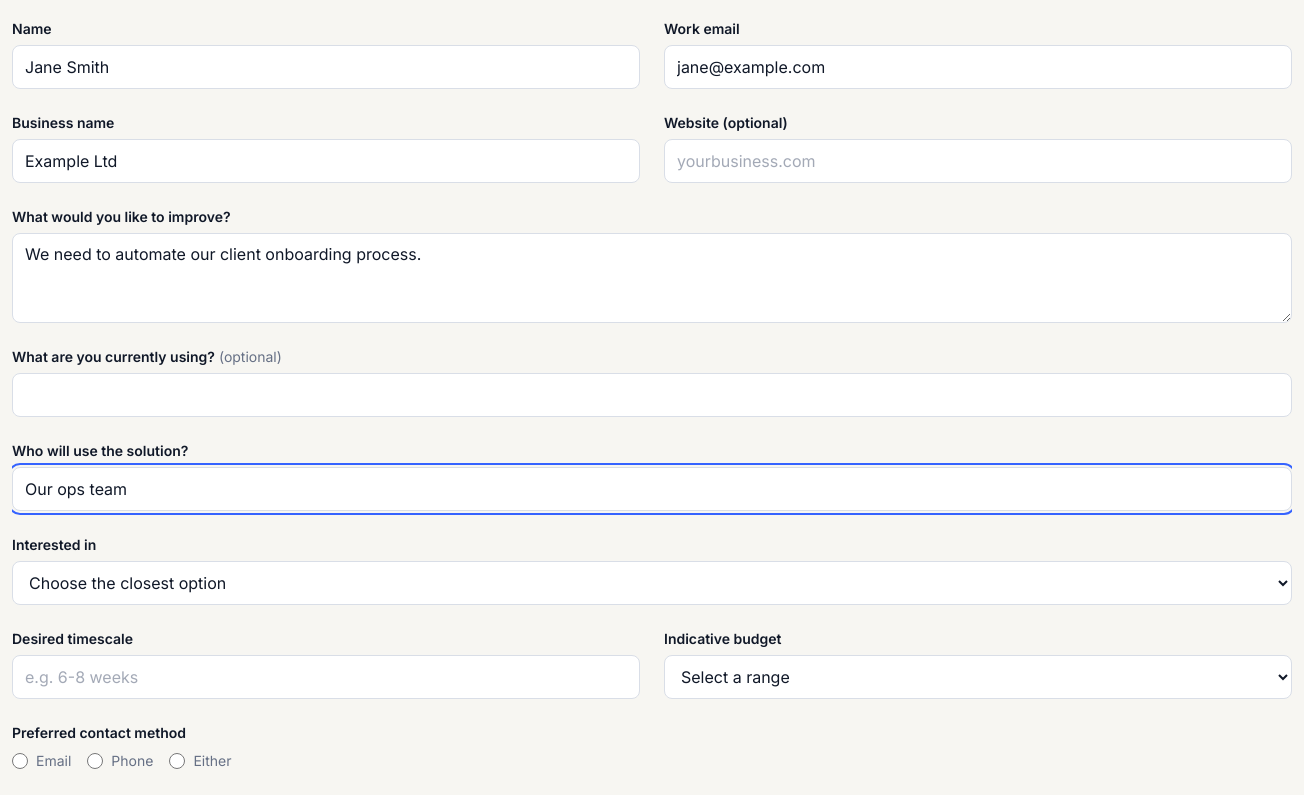
Test case: ContactForm › submits successfully with valid input
The width and height of the screenshot is (1304, 795).
Earlier steps of the test are not shown.
Select "Automation" in the dropdown labelled "Interested in". click: [652, 583]
box: [12, 561, 1292, 605]
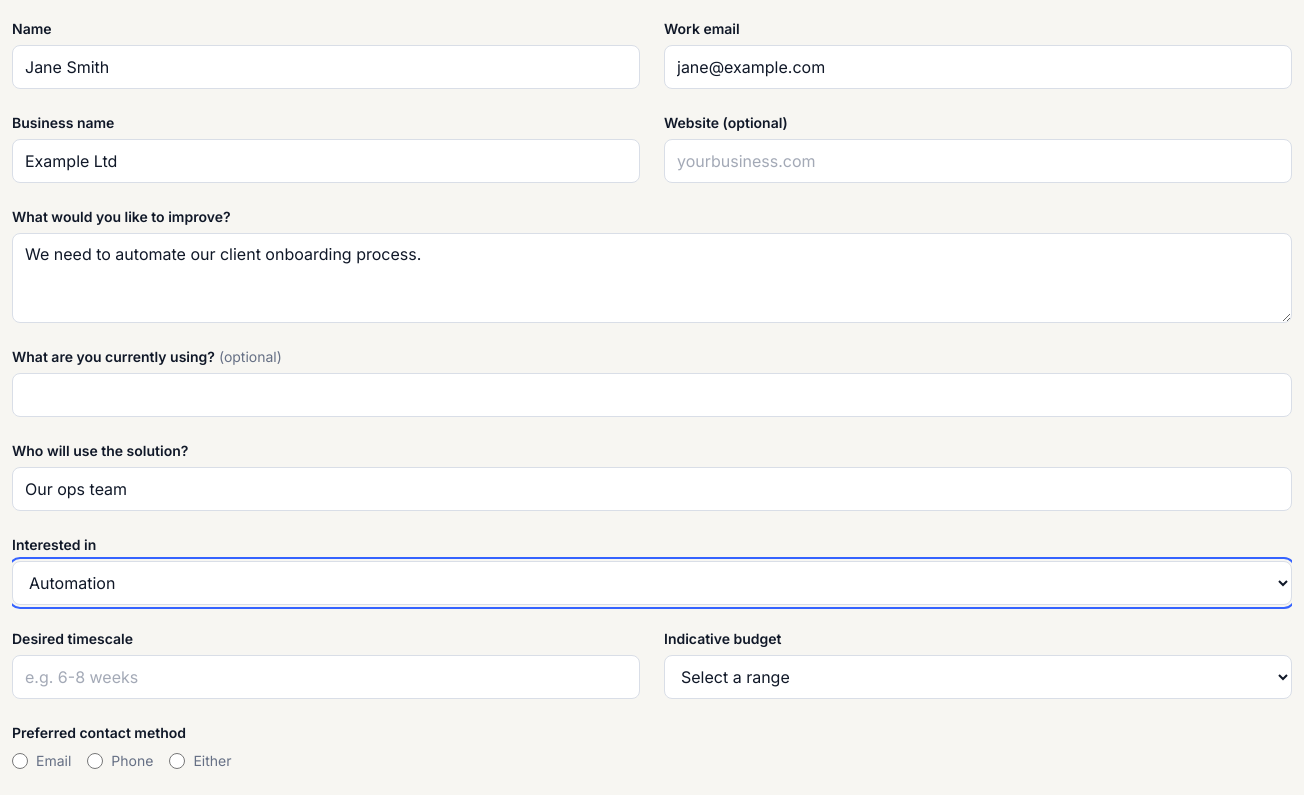
Type "6-8 weeks" into the field labelled "Desired timescale". click: [326, 677]
box: [12, 655, 640, 699]
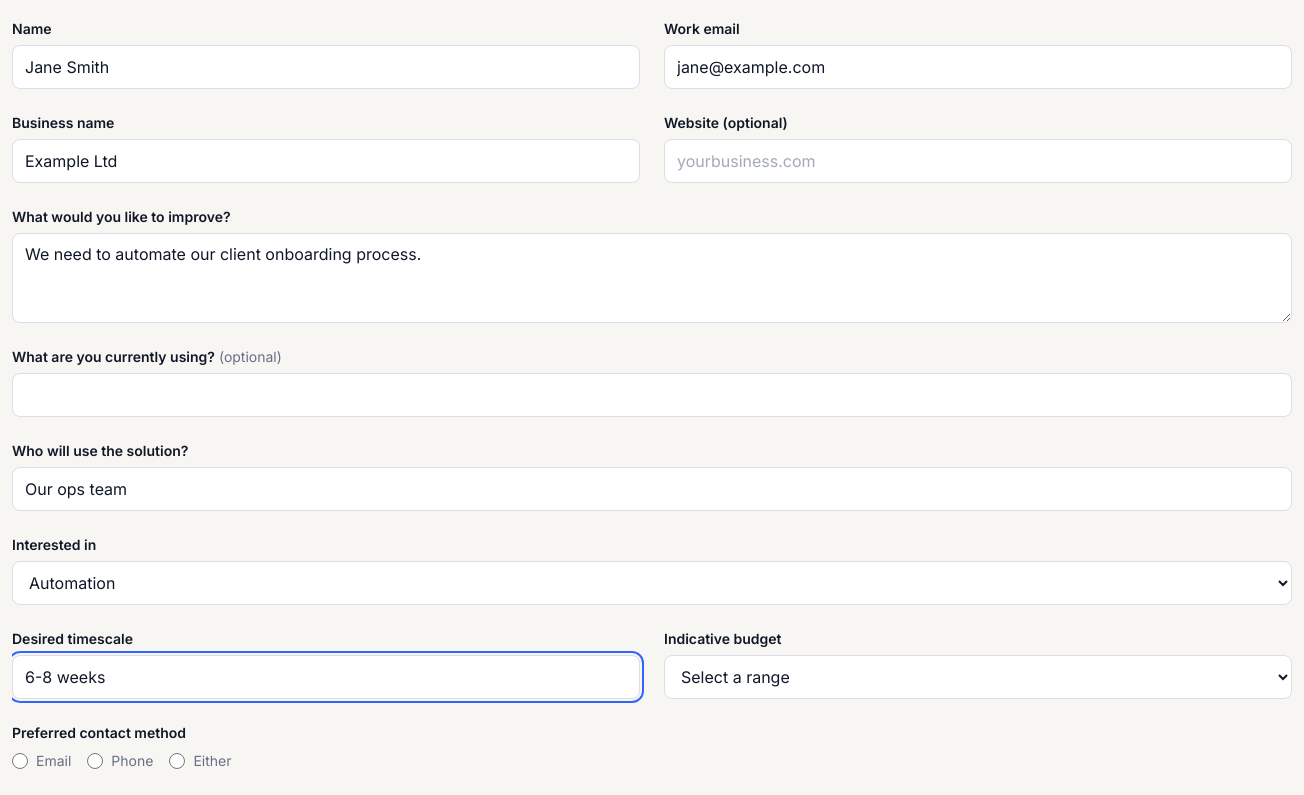
Select "£3,000–£7,500" in the dropdown labelled "Indicative budget". click: [978, 677]
box: [664, 655, 1292, 699]
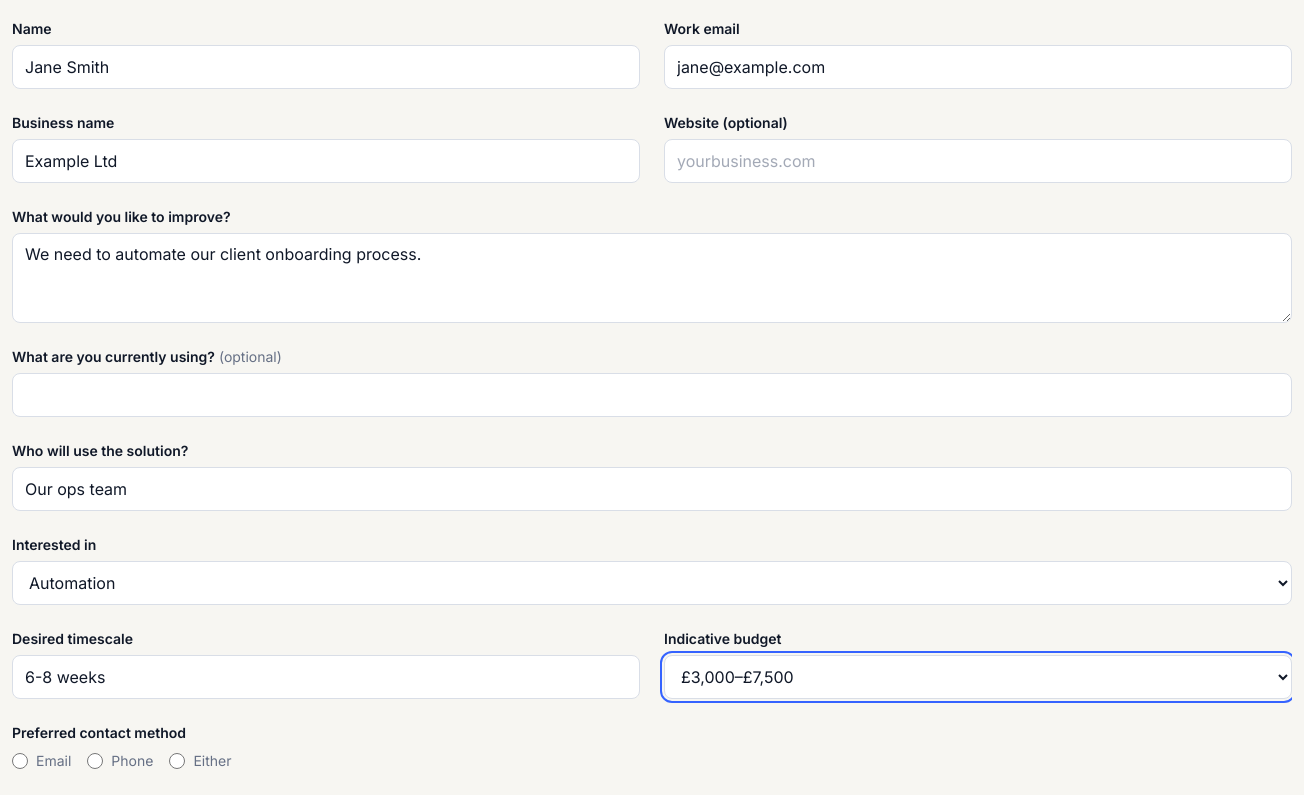
Click the radio button labelled "Email". click: [20, 761]
box: [12, 753, 28, 769]
(page scrolled)
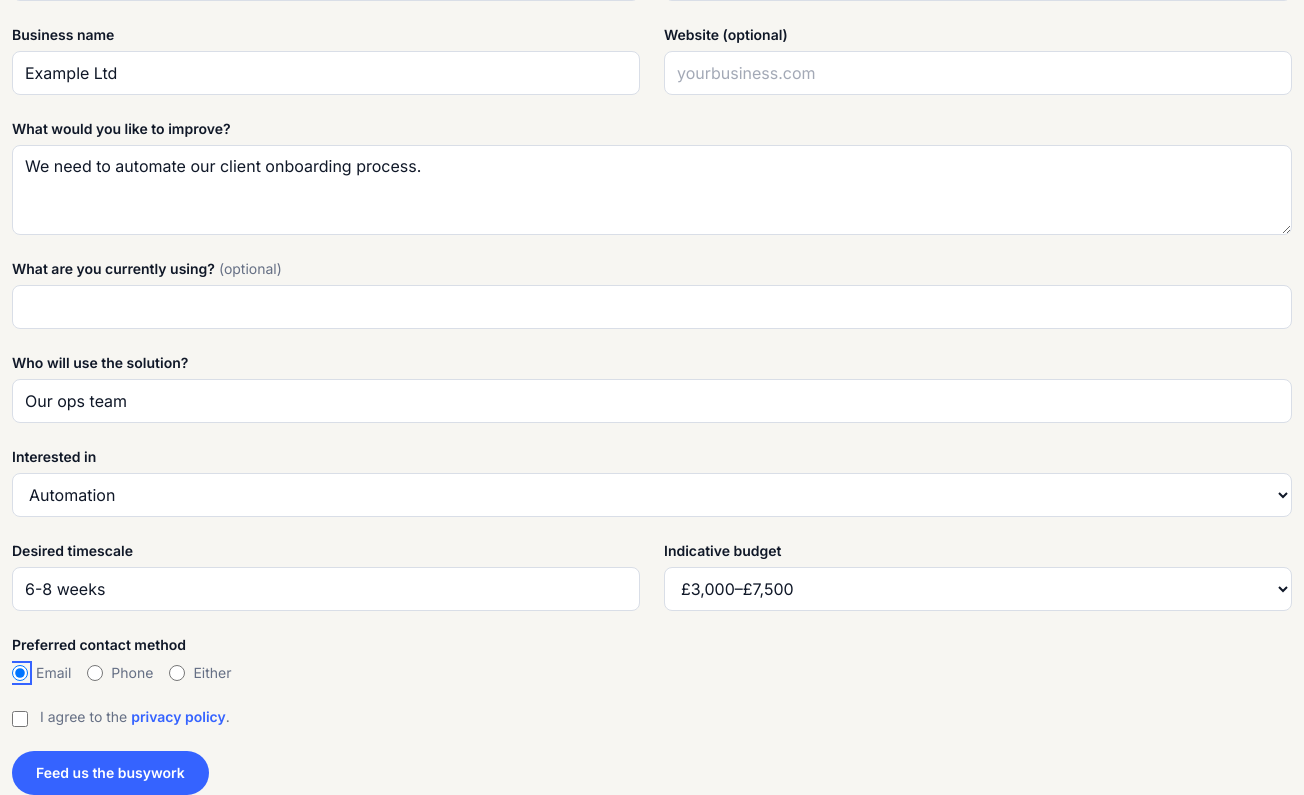
Click the checkbox labelled "I agree to the privacy policy .". click: [20, 719]
box: [12, 711, 28, 727]
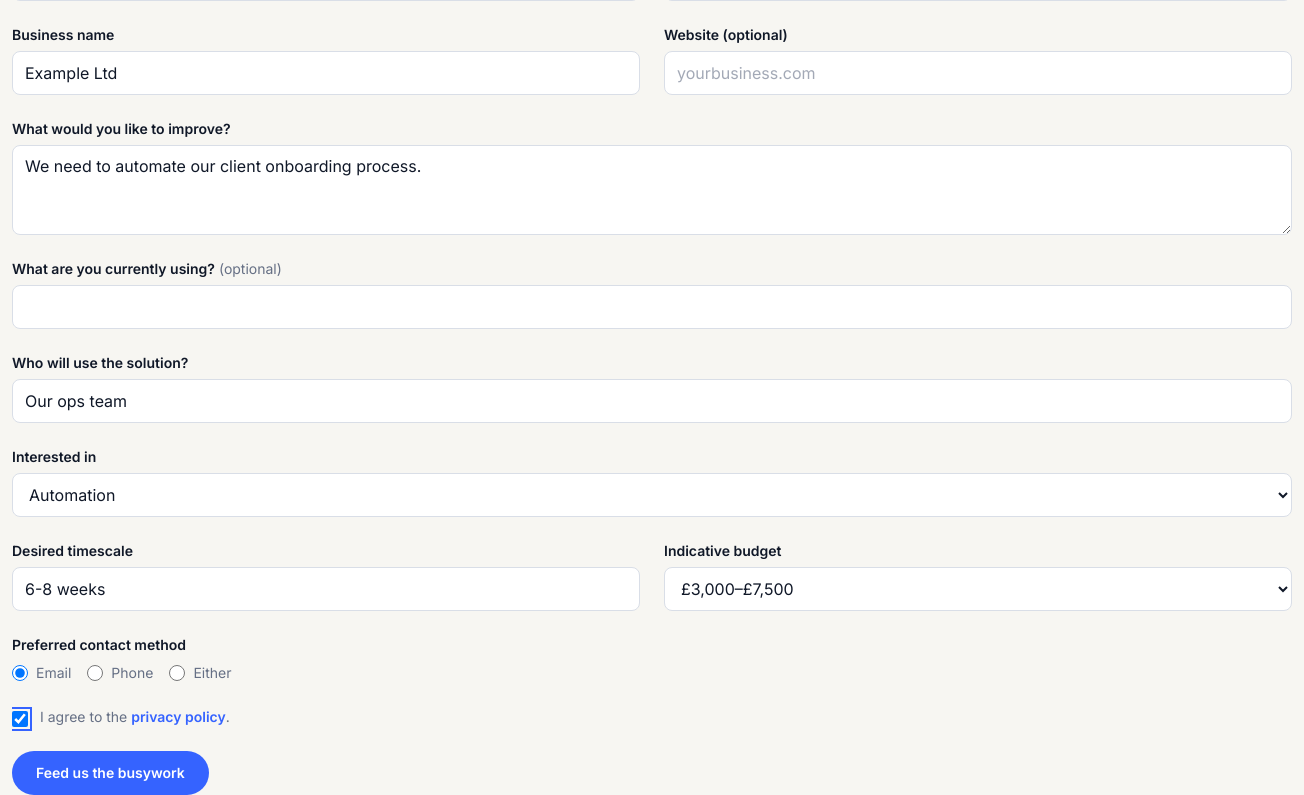
Click the button "Feed us the busywork". click: [110, 773]
box: [12, 751, 209, 794]
(page scrolled)
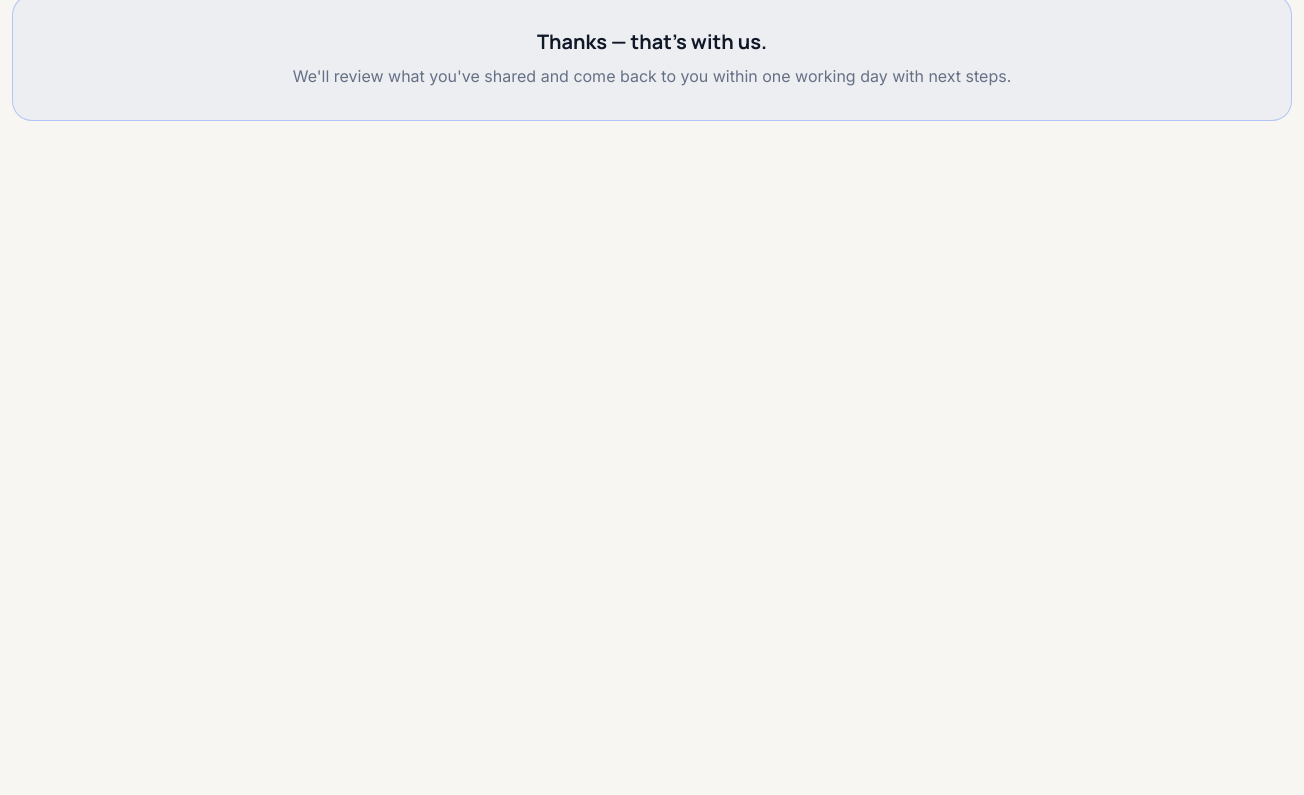
Now the message shows "Thanks", box [537, 28, 767, 55]
